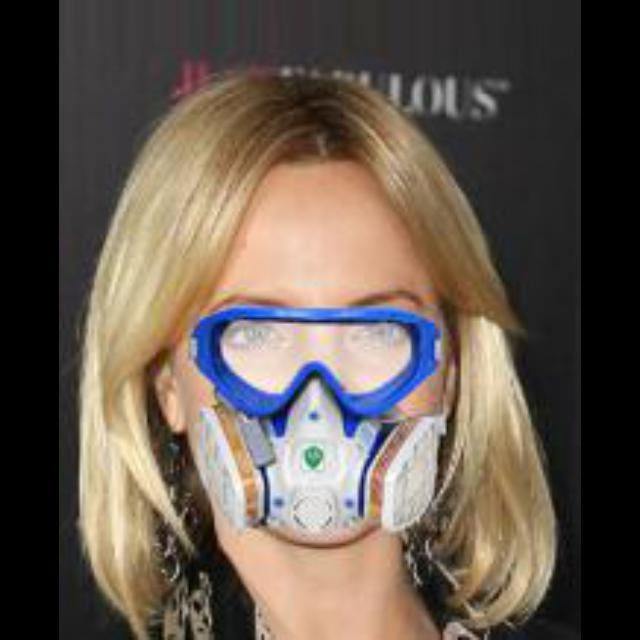suspicion: (61, 56, 521, 586)
